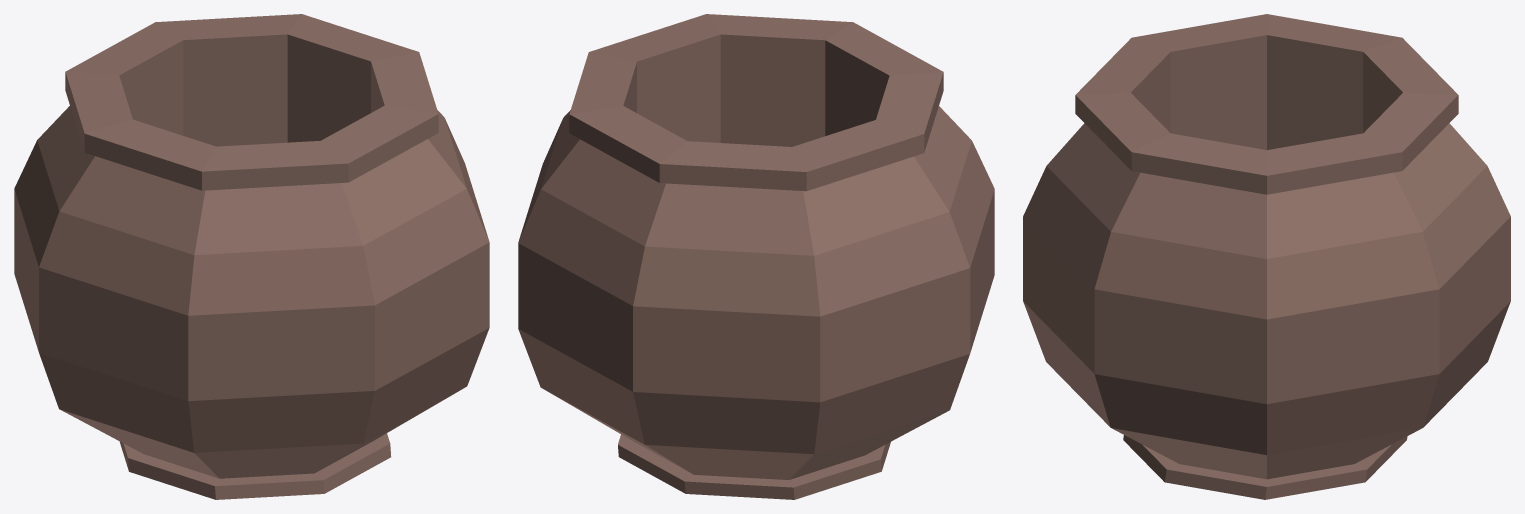
File: ClayPot_Pot.fbx
3 renders of one model, left to right at view 1: azimuth 30°, elevation 25°; view 2: azimuth 150°, elevation 25°; view 3: azimuth 270°, elevation 25°, orthographic.
Parts seen in each view (by area): view 1: Pot; view 2: Pot; view 3: Pot.
Part boxes in pixels (<box>): Pot: <box>14,14,489,499</box>; Pot: <box>518,14,994,499</box>; Pot: <box>1023,14,1510,499</box>.
Size of the model in its own units: 136 by 107 by 136.
